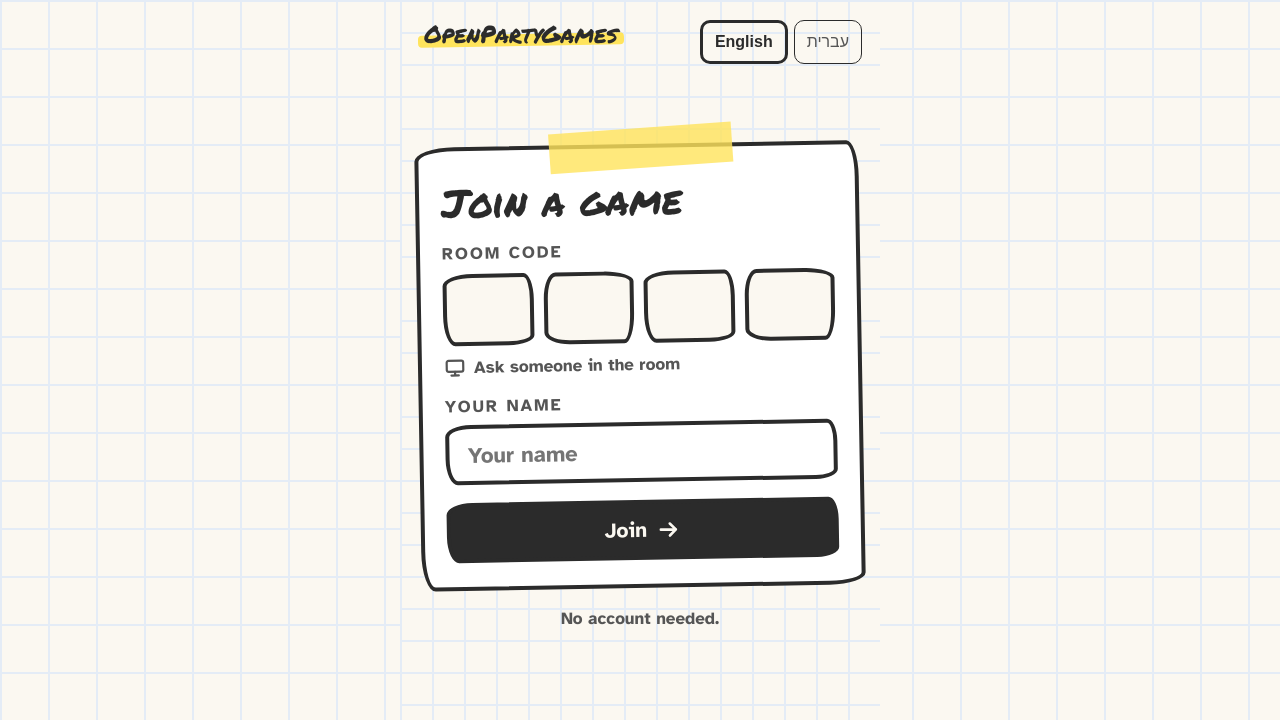
Test case: PhoneJoin › requires a 4-letter room code
Click the button "Join" at (643, 530), box left=446, top=496, right=839, bottom=563
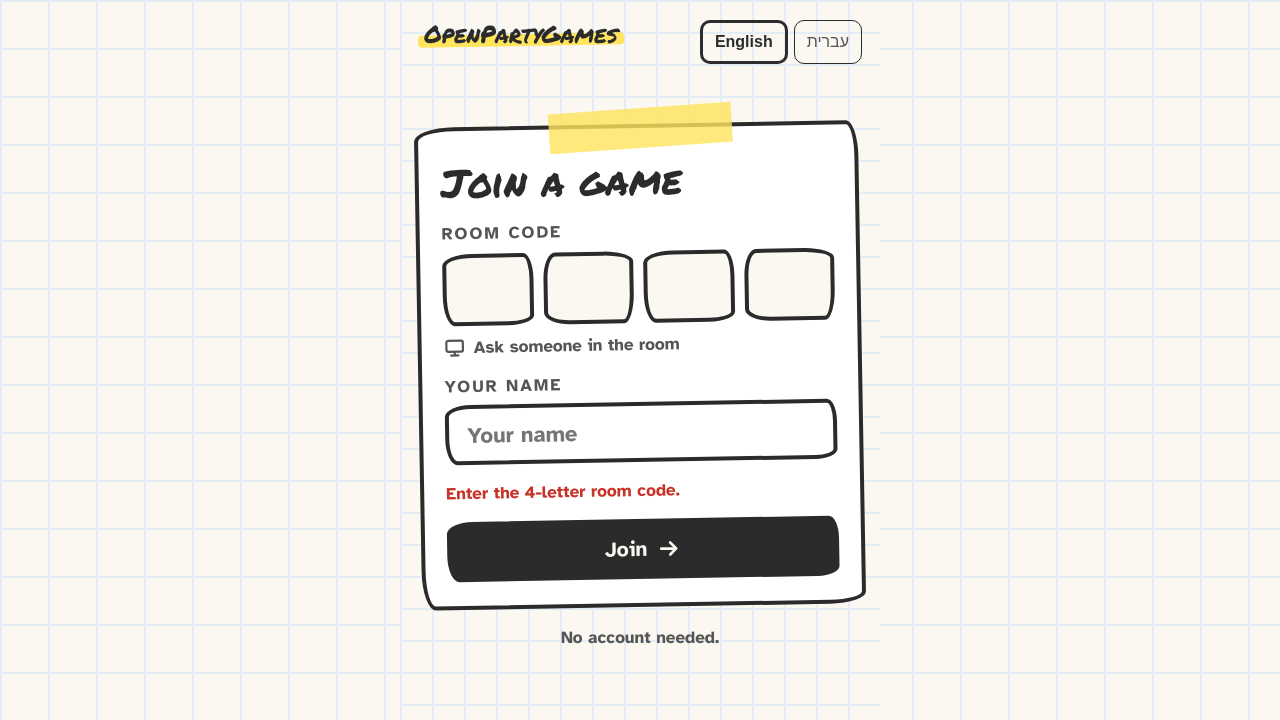
Expected: the text "Enter the 4-letter room code." is shown, left=446, top=479, right=680, bottom=504
